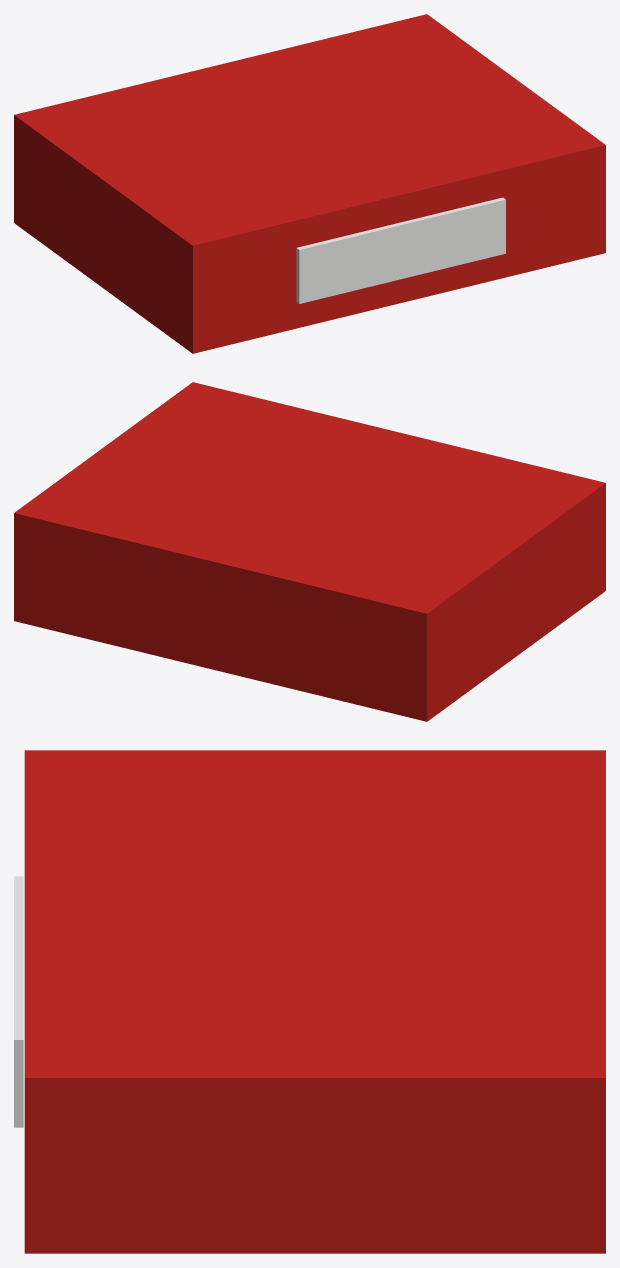
File: ENV_PartsTray.fbx
3 renders of one model, top to bottom at view 1: azimuth 30°, elevation 25°; view 2: azimuth 150°, elevation 25°; view 3: azimuth 270°, elevation 25°, orthographic. The views are drawn at different scales.
Visible parts, largest first — view 1: ENV_PartsTray, Label_Scrap; view 2: ENV_PartsTray; view 3: ENV_PartsTray, Label_Scrap.
Part boxes in pixels (left/top/right/bottom): ENV_PartsTray: left=14, top=14, right=605, bottom=353; Label_Scrap: left=296, top=197, right=505, bottom=303; ENV_PartsTray: left=14, top=382, right=605, bottom=721; ENV_PartsTray: left=24, top=750, right=605, bottom=1253; Label_Scrap: left=14, top=876, right=23, bottom=1127.
Bounding box in the file's own units: 0.4 × 0.1 × 0.3055.
1 material, 1 textured.
